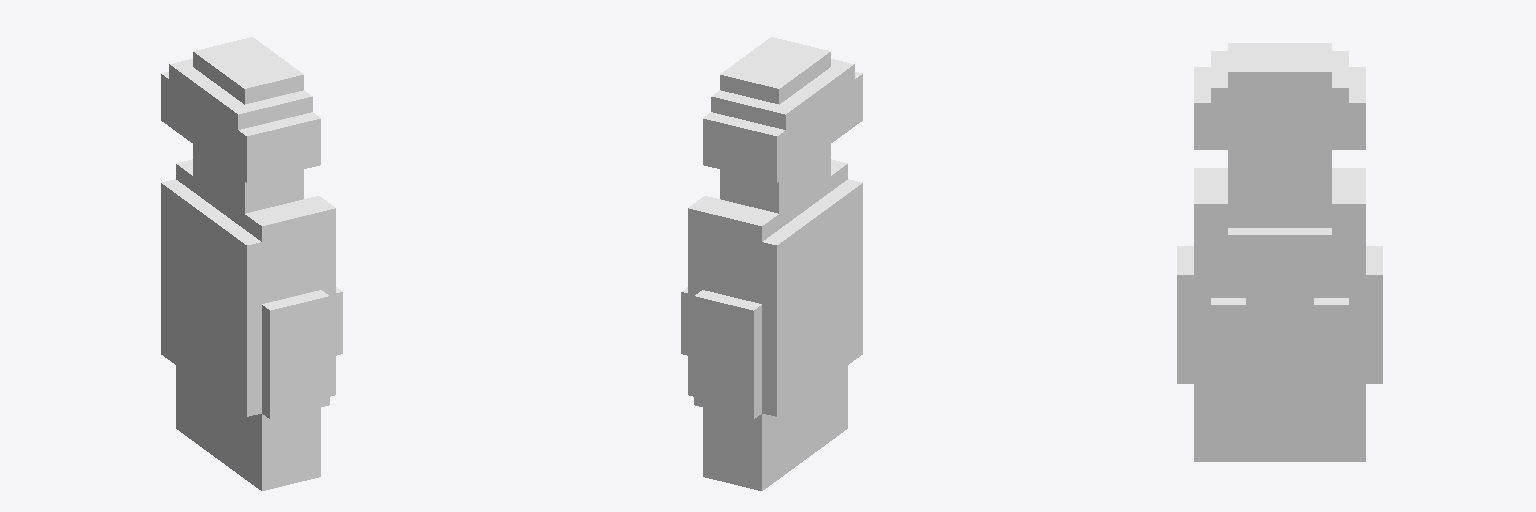
File: armyguy1body.obj
The picture shows the model from 3 angles: view 1: azimuth 30°, elevation 25°; view 2: azimuth 150°, elevation 25°; view 3: azimuth 270°, elevation 25°; orthographic projection.
Visible parts, largest first — view 1: armyguy1body; view 2: armyguy1body; view 3: armyguy1body.
Boxes of the visible parts, x1,y1,x2,y2 form: armyguy1body: [161, 37, 342, 490]; armyguy1body: [681, 37, 862, 490]; armyguy1body: [1177, 43, 1382, 461].
Size of the model in its own units: 7 by 25 by 12.